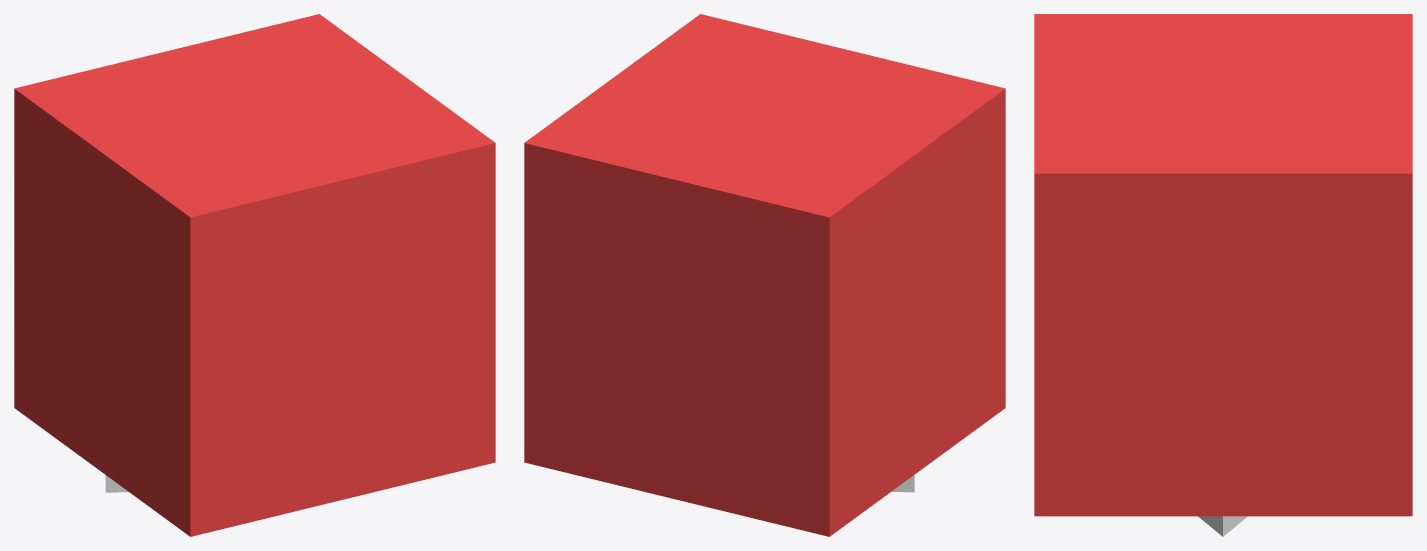
File: speed-slide.glb
The picture shows the model from 3 angles, left to right: view 1: azimuth 30°, elevation 25°; view 2: azimuth 150°, elevation 25°; view 3: azimuth 270°, elevation 25°; orthographic projection. The views are drawn at different scales.
Visible parts, largest first — view 1: cube; view 2: cube; view 3: cube, pyramid.
Part boxes in pixels (x1,y1,x2,y2): cube: (14,14,495,536); cube: (524,14,1005,536); cube: (1034,14,1412,516); pyramid: (1198,516,1247,536).
Size of the model in its own units: 1 by 1.07 by 1.
Materials: 4 (4 with a texture image).
